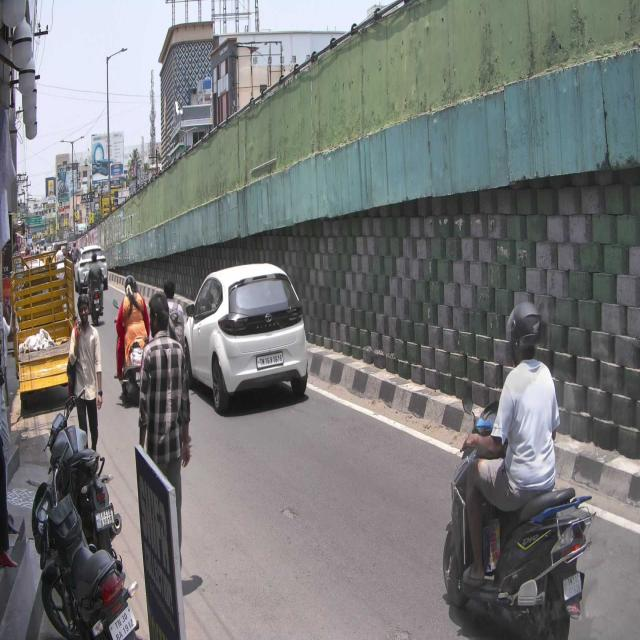single_rider: (442, 298, 596, 640)
